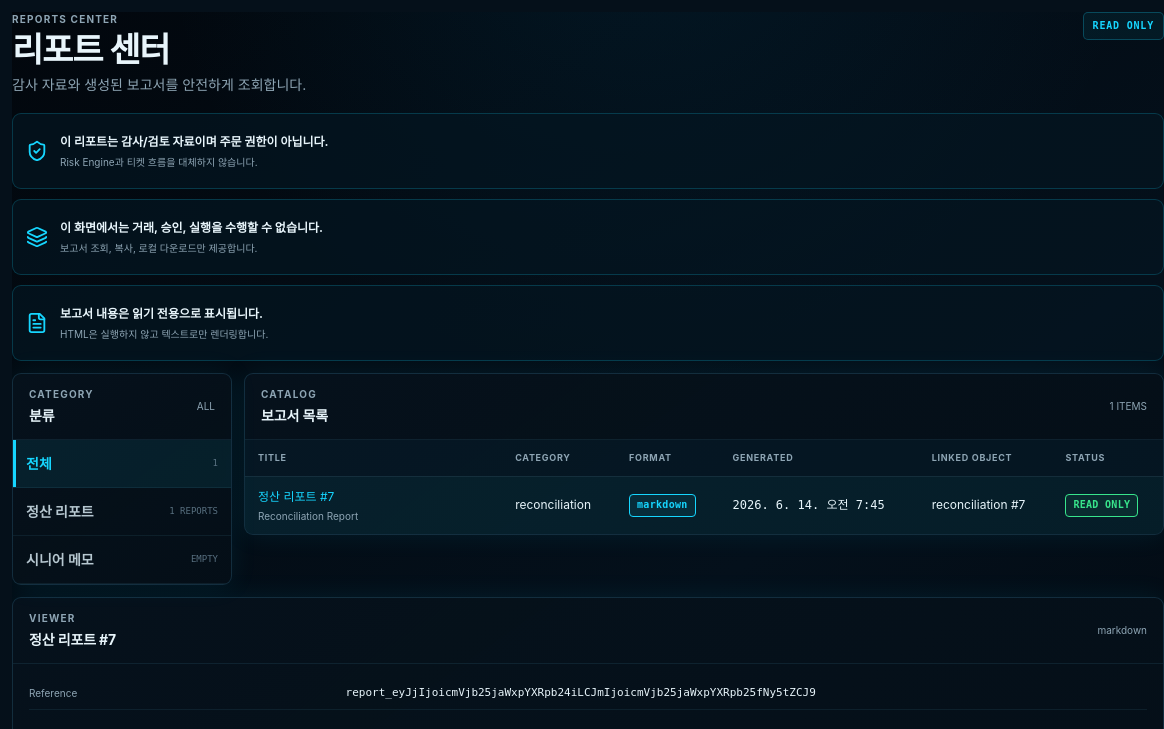
Test: ReportsPage › shows a clean empty state for an empty category
Click the button "시니어 메모 EMPTY": (122, 560) [13,536,231,584]
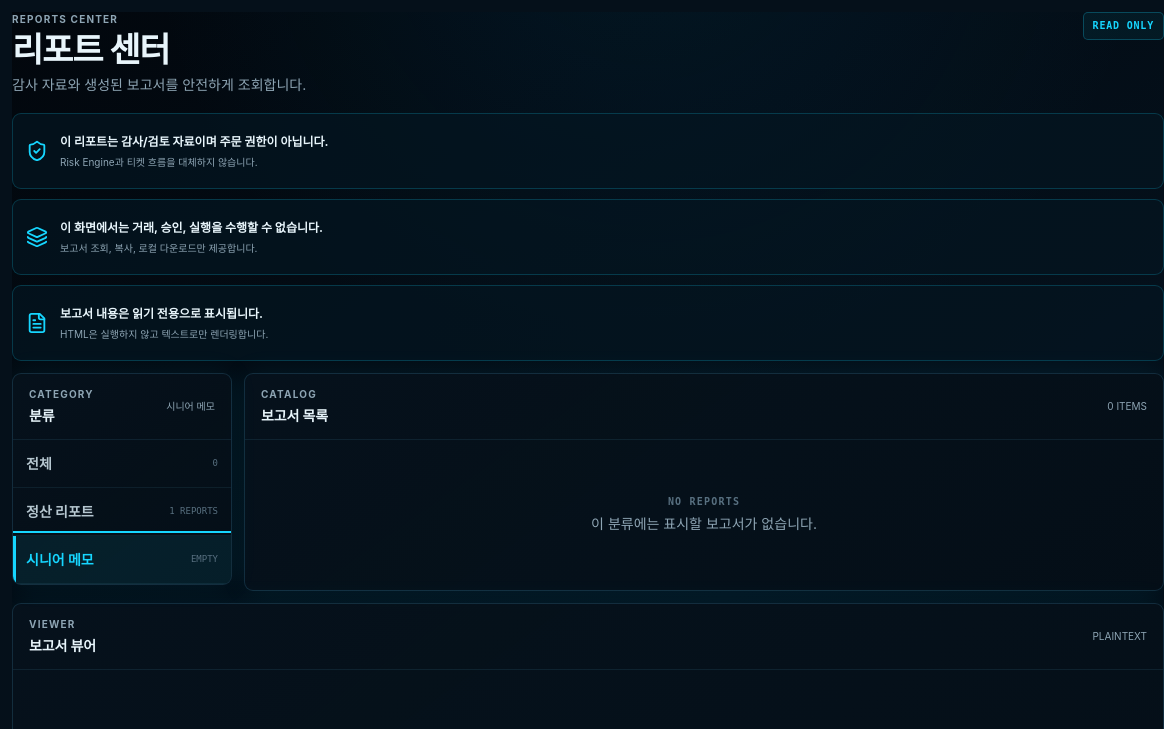
expect the text "이 분류에는 표시할 보고서가 없습니다." is shown: met, box [591,513,817,534]
